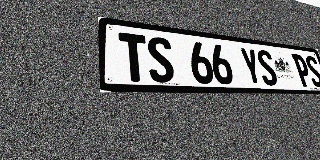6: (187, 41, 215, 84), (208, 43, 235, 85)
P: (291, 54, 313, 87)
S: (146, 36, 176, 83), (255, 49, 279, 86), (304, 55, 320, 87)
T: (118, 32, 149, 82)
Y: (239, 47, 264, 85)
